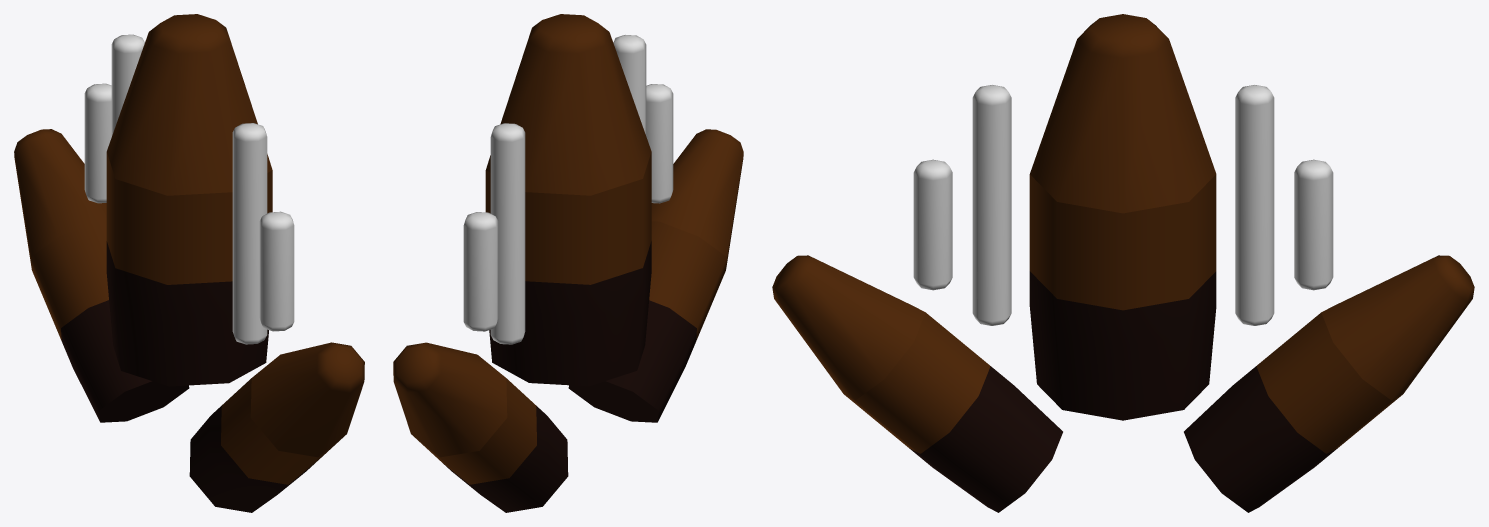
The model's file is MultiBulletPickup.fbx.
The picture shows the model from 3 angles, left to right: view 1: azimuth 30°, elevation 25°; view 2: azimuth 150°, elevation 25°; view 3: azimuth 270°, elevation 25°; orthographic projection. The views are drawn at different scales.
Parts seen in each view (by area): view 1: MultiBullet; view 2: MultiBullet; view 3: MultiBullet.
Boxes of the visible parts, x1,y1,x2,y2 form: MultiBullet: (14, 14, 364, 512); MultiBullet: (393, 14, 743, 512); MultiBullet: (772, 14, 1474, 512).
Size of the model in its own units: 25.13 by 71.2 by 94.57.
